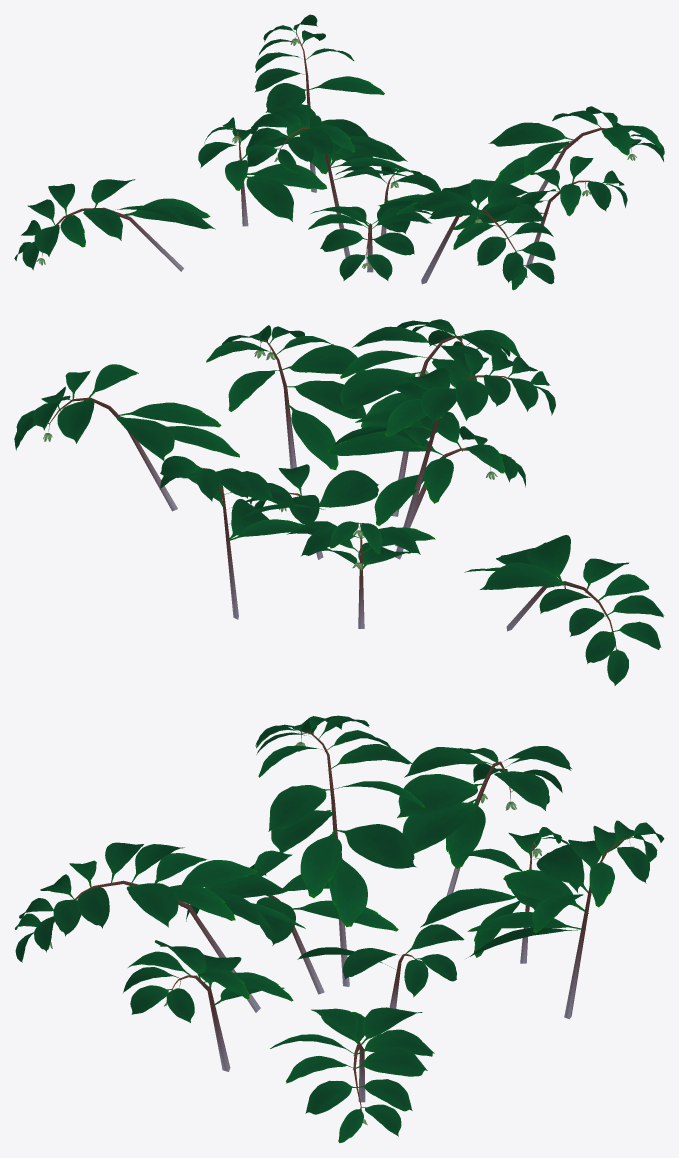
3 renders of one model, top to bottom at view 1: azimuth 30°, elevation 25°; view 2: azimuth 150°, elevation 25°; view 3: azimuth 270°, elevation 25°, orthographic. The views are drawn at different scales.
Parts seen in each view (by area): view 1: SM_BM_Lily_02_LOD0; view 2: SM_BM_Lily_02_LOD0; view 3: SM_BM_Lily_02_LOD0.
Part boxes in pixels (x1,y1,x2,y2): SM_BM_Lily_02_LOD0: (14,14,664,290); SM_BM_Lily_02_LOD0: (14,319,664,685); SM_BM_Lily_02_LOD0: (15,715,664,1142).
Bounding box in the file's own units: 2 × 0.5574 × 1.49.
Materials: 1 (1 with a texture image).
